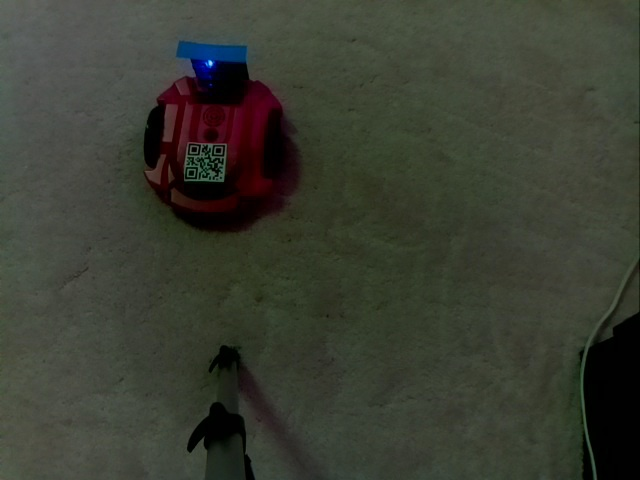board: (171, 40, 257, 92)
chassis: (127, 33, 301, 237)
